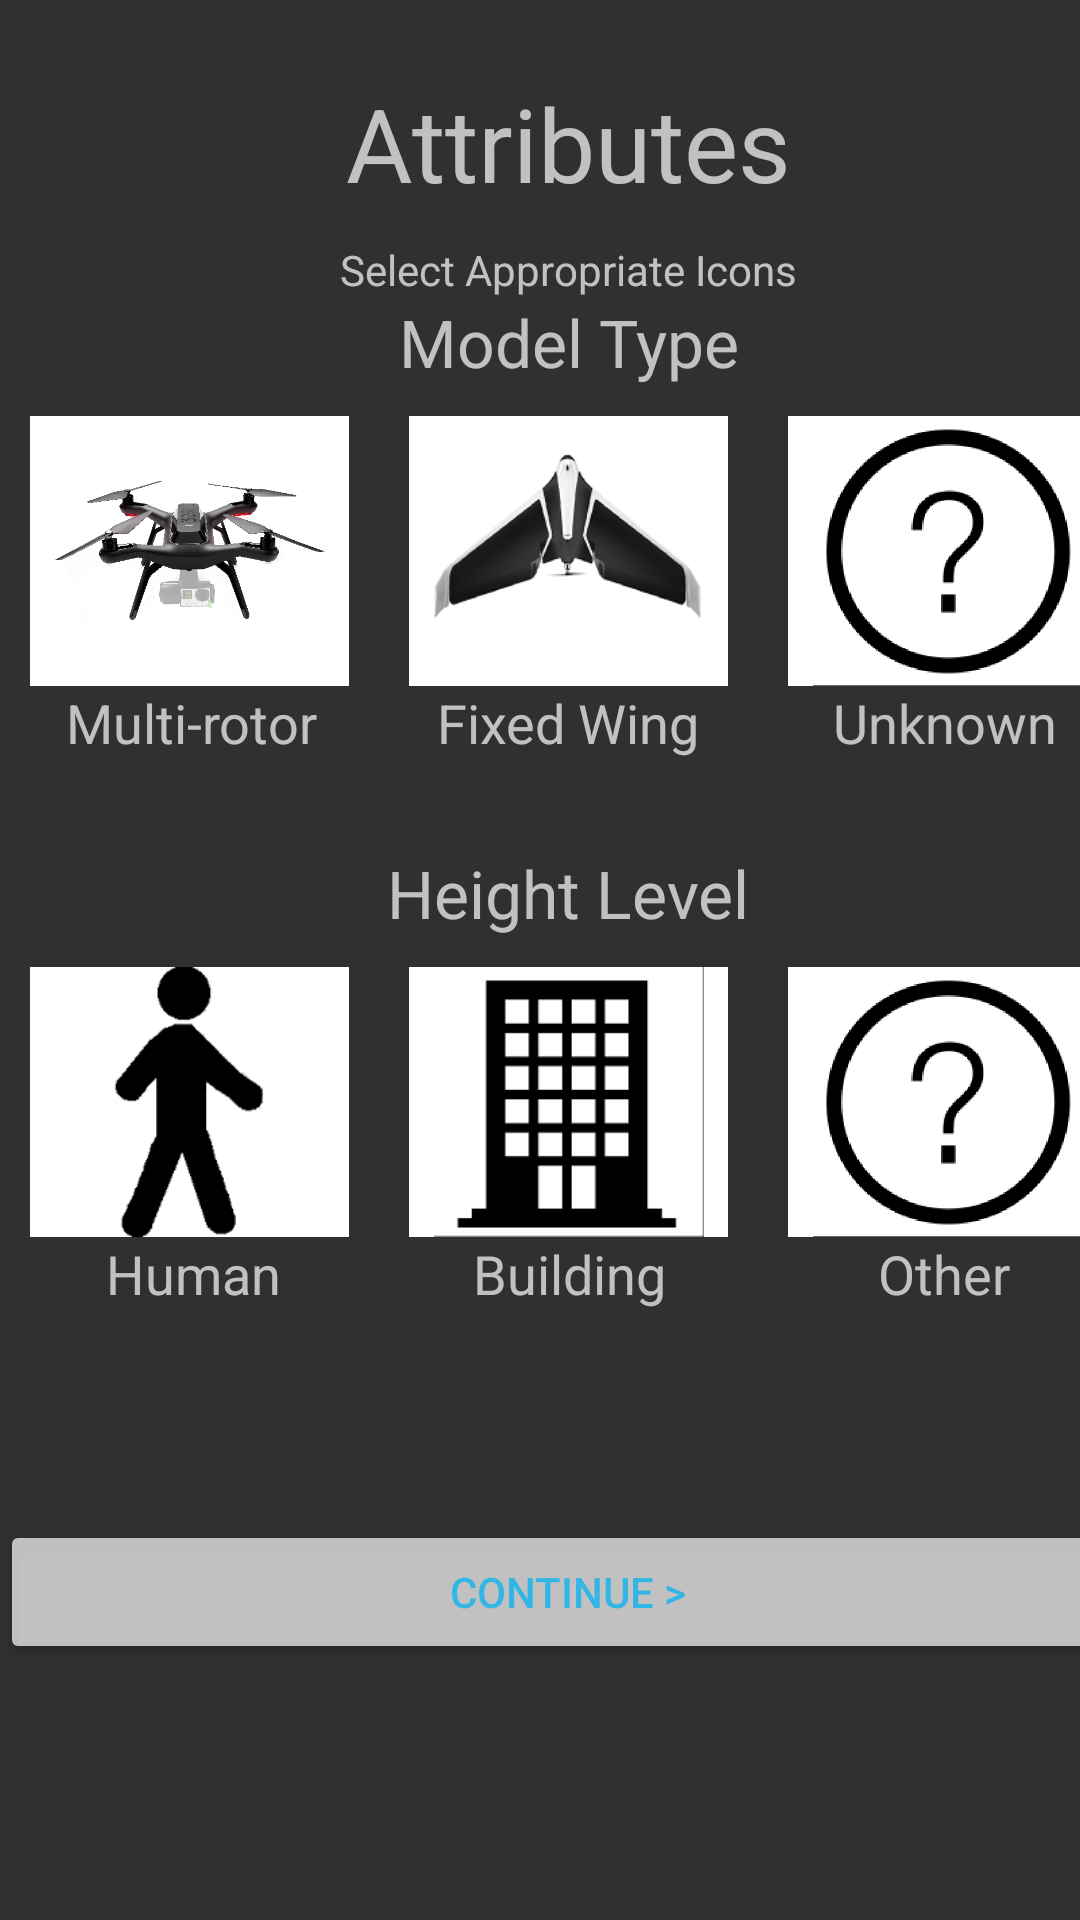

Where to tap for icons on this 1080 x 1920 app screen, as [x,y]:
quadcop: [189,551]
